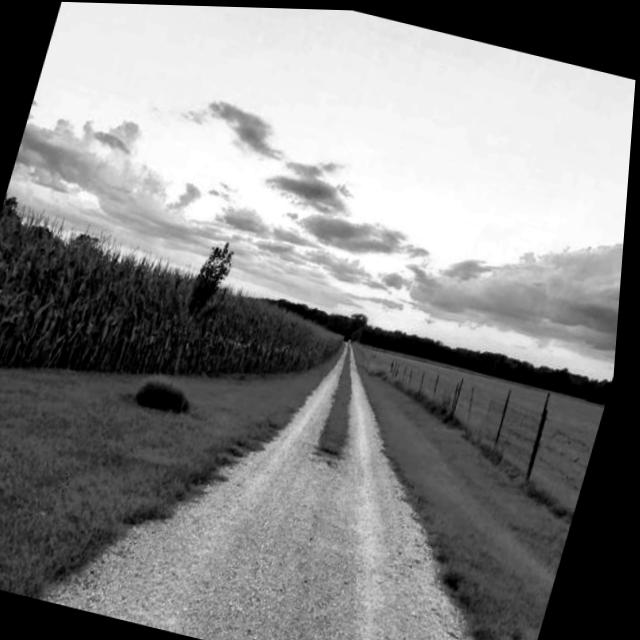cleat: (191, 239, 593, 640)
